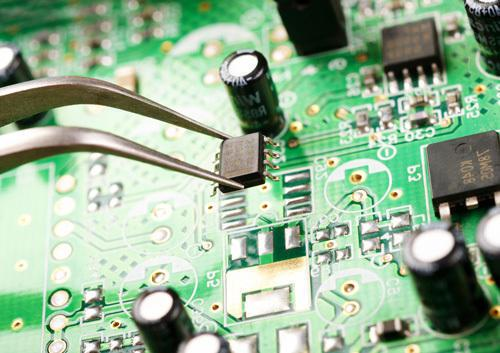capacitor: (402, 222, 488, 333), (219, 48, 286, 138), (133, 285, 195, 351)
